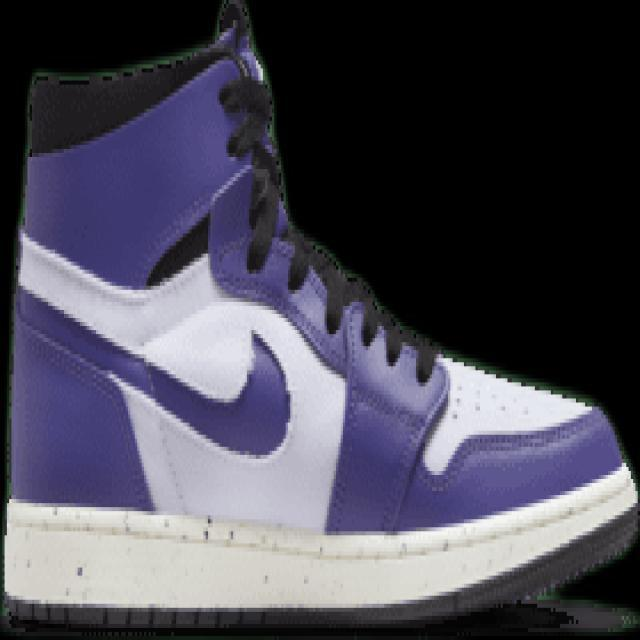J1_ShoeLogo: (3, 1, 636, 627)
J1_StitchPattern: (4, 462, 636, 619), (212, 27, 442, 387), (25, 31, 241, 153), (281, 229, 439, 383), (419, 405, 601, 492), (216, 46, 285, 274), (31, 36, 238, 88), (378, 386, 449, 534), (20, 317, 121, 396), (285, 235, 352, 332), (359, 314, 440, 384), (153, 426, 194, 514), (412, 340, 438, 383), (381, 324, 404, 366)
